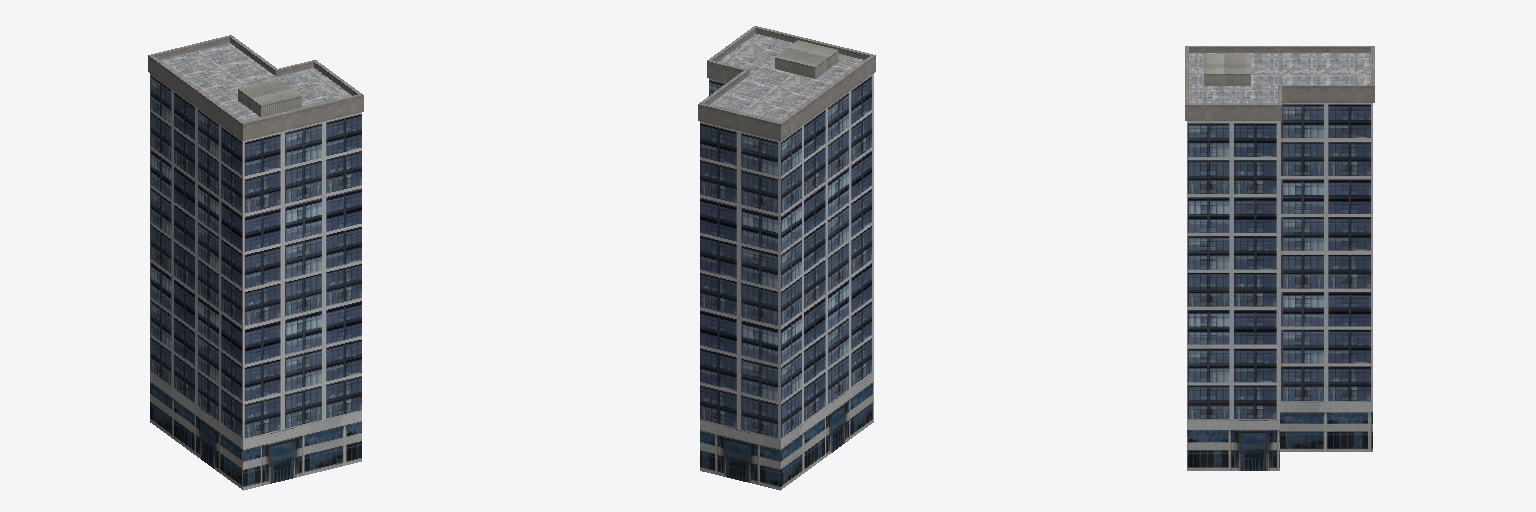
3 views of the same model, side by side, from view 1: azimuth 30°, elevation 25°; view 2: azimuth 150°, elevation 25°; view 3: azimuth 270°, elevation 25° (orthographic).
Visible parts, largest first — view 1: building_44; view 2: building_44; view 3: building_44.
Boxes of the visible parts, <box> form: building_44: <box>148,35,363,490</box>; building_44: <box>698,26,875,490</box>; building_44: <box>1185,46,1374,470</box>.
Bounding box in the file's own units: 73.74 × 217 × 100.
1 materials, 1 textured.